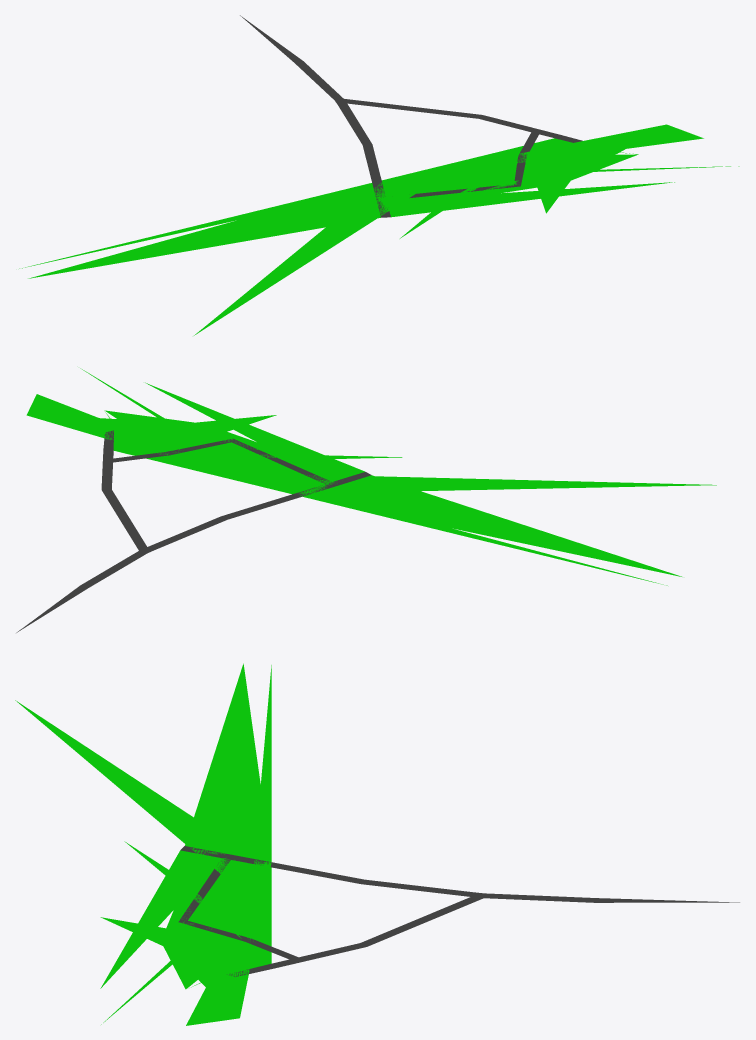
3 renders of one model, top to bottom at view 1: azimuth 30°, elevation 25°; view 2: azimuth 150°, elevation 25°; view 3: azimuth 270°, elevation 25°, orthographic. The views are drawn at different scales.
Bounding box in the file's own units: 300 × 0 × 254.
